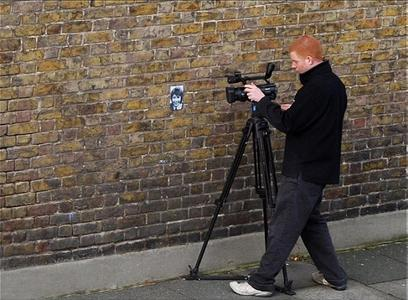person: (230, 35, 349, 296)
